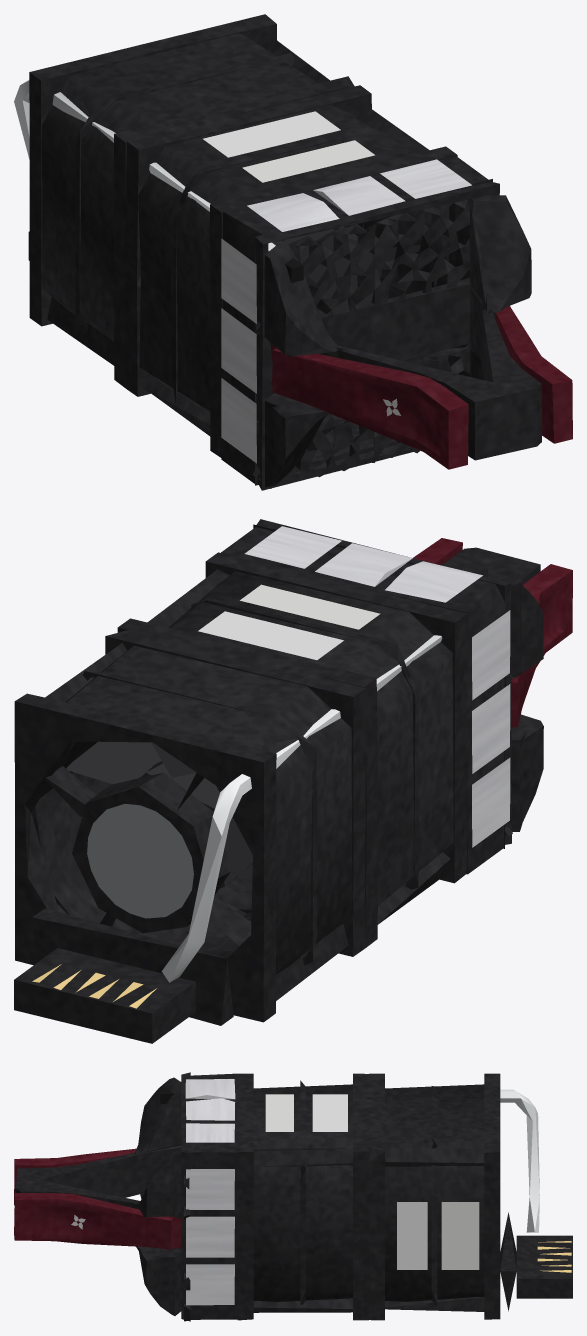
The model's file is FAN-T2.far.glb.
3 views of the same model, one above another, from view 1: azimuth 30°, elevation 25°; view 2: azimuth 150°, elevation 25°; view 3: azimuth 270°, elevation 25° (orthographic). The views are drawn at different scales.
Visible parts, largest first — view 1: Body_far; view 2: Body_far; view 3: Body_far.
Boxes of the visible parts, left/top/right/bottom form: Body_far: left=14, top=14, right=572, bottom=490; Body_far: left=14, top=519, right=572, bottom=1043; Body_far: left=14, top=1072, right=572, bottom=1321.
Size of the model in its own units: 0.0417 by 0.0414 by 0.1192.
Materials: 5 (4 with a texture image).
